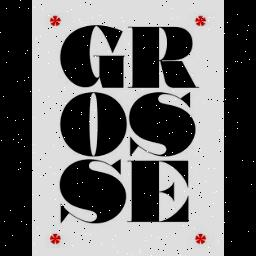e: (126, 156, 192, 228)
g: (58, 21, 128, 93)
o: (57, 90, 129, 160)
r: (126, 22, 202, 92)
